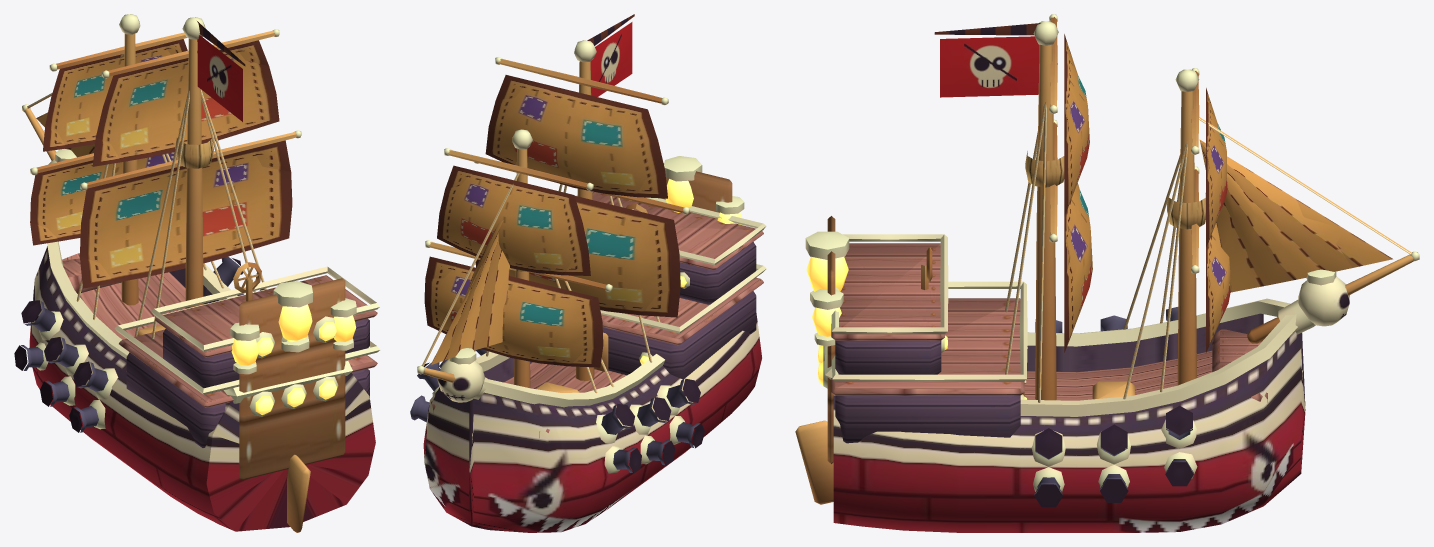
The model's file is brethren_galleon.glb.
3 renders of one model, left to right at view 1: azimuth 30°, elevation 25°; view 2: azimuth 150°, elevation 25°; view 3: azimuth 270°, elevation 25°, orthographic. The views are drawn at different scales.
Visible parts, largest first — view 1: Hull, Sail1_0, Rigging, Sail1_1, Sail0_1, Sail0_0, Guns0, Flag; view 2: Hull, Sail1_1, Sail0_1, Sail0_0, Sail1_0, Rigging, Jib, Guns0, Flag; view 3: Hull, Rigging, Jib, Flag, Guns0, Sail1_0, Sail1_1, Sail0_1, Sail0_0.
Boxes of the visible parts, x1=… form: Hull: x1=29, y1=149, x2=380, y2=532; Sail1_0: x1=79, y1=140, x2=292, y2=288; Rigging: x1=22, y1=14, x2=301, y2=339; Sail1_1: x1=92, y1=40, x2=279, y2=166; Sail0_1: x1=43, y1=39, x2=187, y2=151; Sail0_0: x1=30, y1=152, x2=177, y2=245; Guns0: x1=14, y1=256, x2=264, y2=432; Flag: x1=197, y1=21, x2=245, y2=121; Hull: x1=423, y1=156, x2=766, y2=532; Sail1_1: x1=485, y1=75, x2=667, y2=198; Sail0_1: x1=437, y1=165, x2=590, y2=275; Sail0_0: x1=424, y1=256, x2=603, y2=367; Sail1_0: x1=475, y1=196, x2=680, y2=317; Rigging: x1=417, y1=40, x2=689, y2=393; Jib: x1=431, y1=220, x2=509, y2=364; Guns0: x1=410, y1=349, x2=704, y2=472; Flag: x1=587, y1=14, x2=634, y2=96; Hull: x1=795, y1=216, x2=1349, y2=532; Rigging: x1=1005, y1=14, x2=1419, y2=402; Jib: x1=1199, y1=139, x2=1392, y2=292; Flag: x1=934, y1=23, x2=1040, y2=97; Guns0: x1=1034, y1=307, x2=1193, y2=507; Sail1_0: x1=1064, y1=183, x2=1092, y2=352; Sail1_1: x1=1064, y1=34, x2=1089, y2=216; Sail0_1: x1=1206, y1=88, x2=1227, y2=247; Sail0_0: x1=1206, y1=223, x2=1231, y2=352.
Size of the model in its own units: 1.94 by 3.51 by 4.06.
8 materials, 8 textured.
